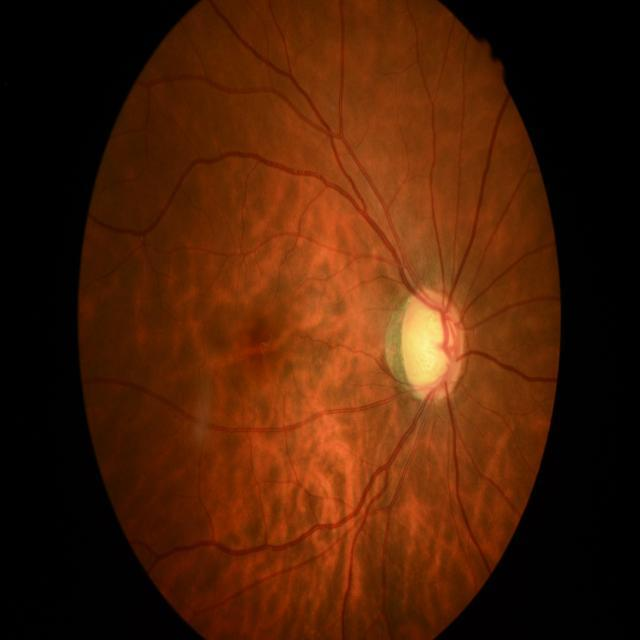cup: (406, 299, 457, 384)
disk: (400, 288, 468, 402)
